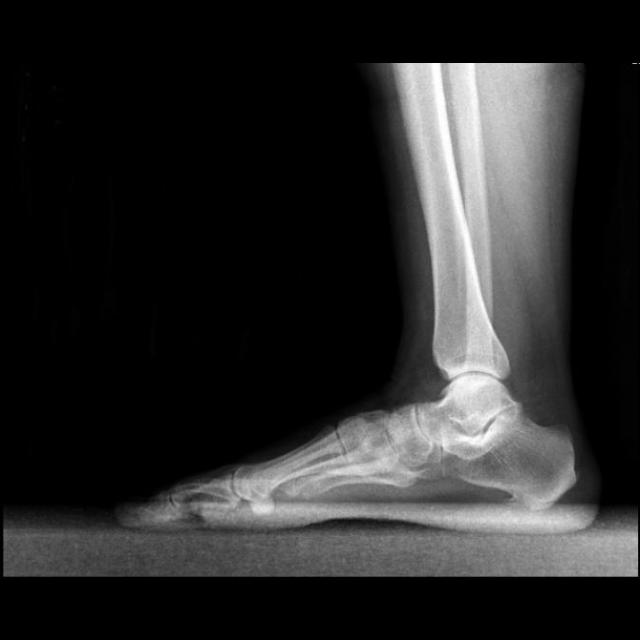a: (442, 412, 578, 509)
b: (386, 401, 432, 466)
c: (233, 426, 345, 500)
